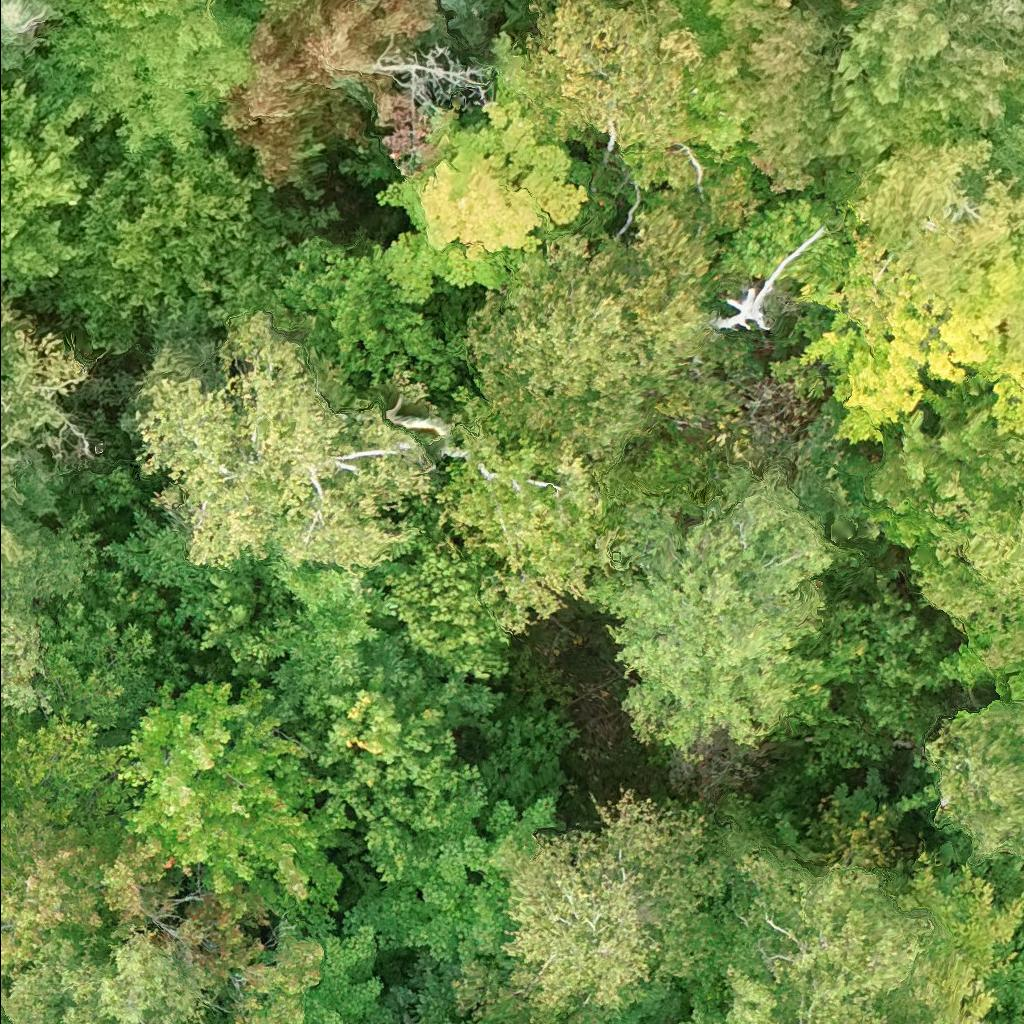crown: (466, 164, 766, 490), (586, 436, 865, 763), (134, 309, 439, 574), (97, 498, 396, 725), (52, 129, 340, 358), (489, 783, 734, 1023), (377, 411, 615, 639), (117, 677, 343, 915), (685, 842, 973, 1023), (796, 222, 1023, 450), (370, 97, 591, 306), (288, 661, 482, 883), (217, 0, 446, 185), (338, 777, 559, 966), (513, 0, 708, 194), (0, 797, 182, 981), (830, 0, 1023, 170), (684, 0, 851, 196), (270, 234, 471, 391), (895, 433, 1023, 676), (851, 133, 1023, 297), (0, 503, 110, 712), (0, 925, 226, 1023), (158, 894, 324, 1023), (0, 75, 93, 302), (0, 284, 93, 508), (922, 695, 1023, 870), (273, 888, 396, 1023), (0, 704, 29, 890), (0, 0, 61, 88), (48, 0, 208, 30), (198, 573, 254, 655), (432, 0, 509, 57), (988, 114, 1023, 194), (989, 655, 1023, 697), (751, 0, 805, 8), (1008, 56, 1023, 83), (1007, 103, 1023, 127), (828, 0, 865, 8), (492, 1019, 500, 1023)
